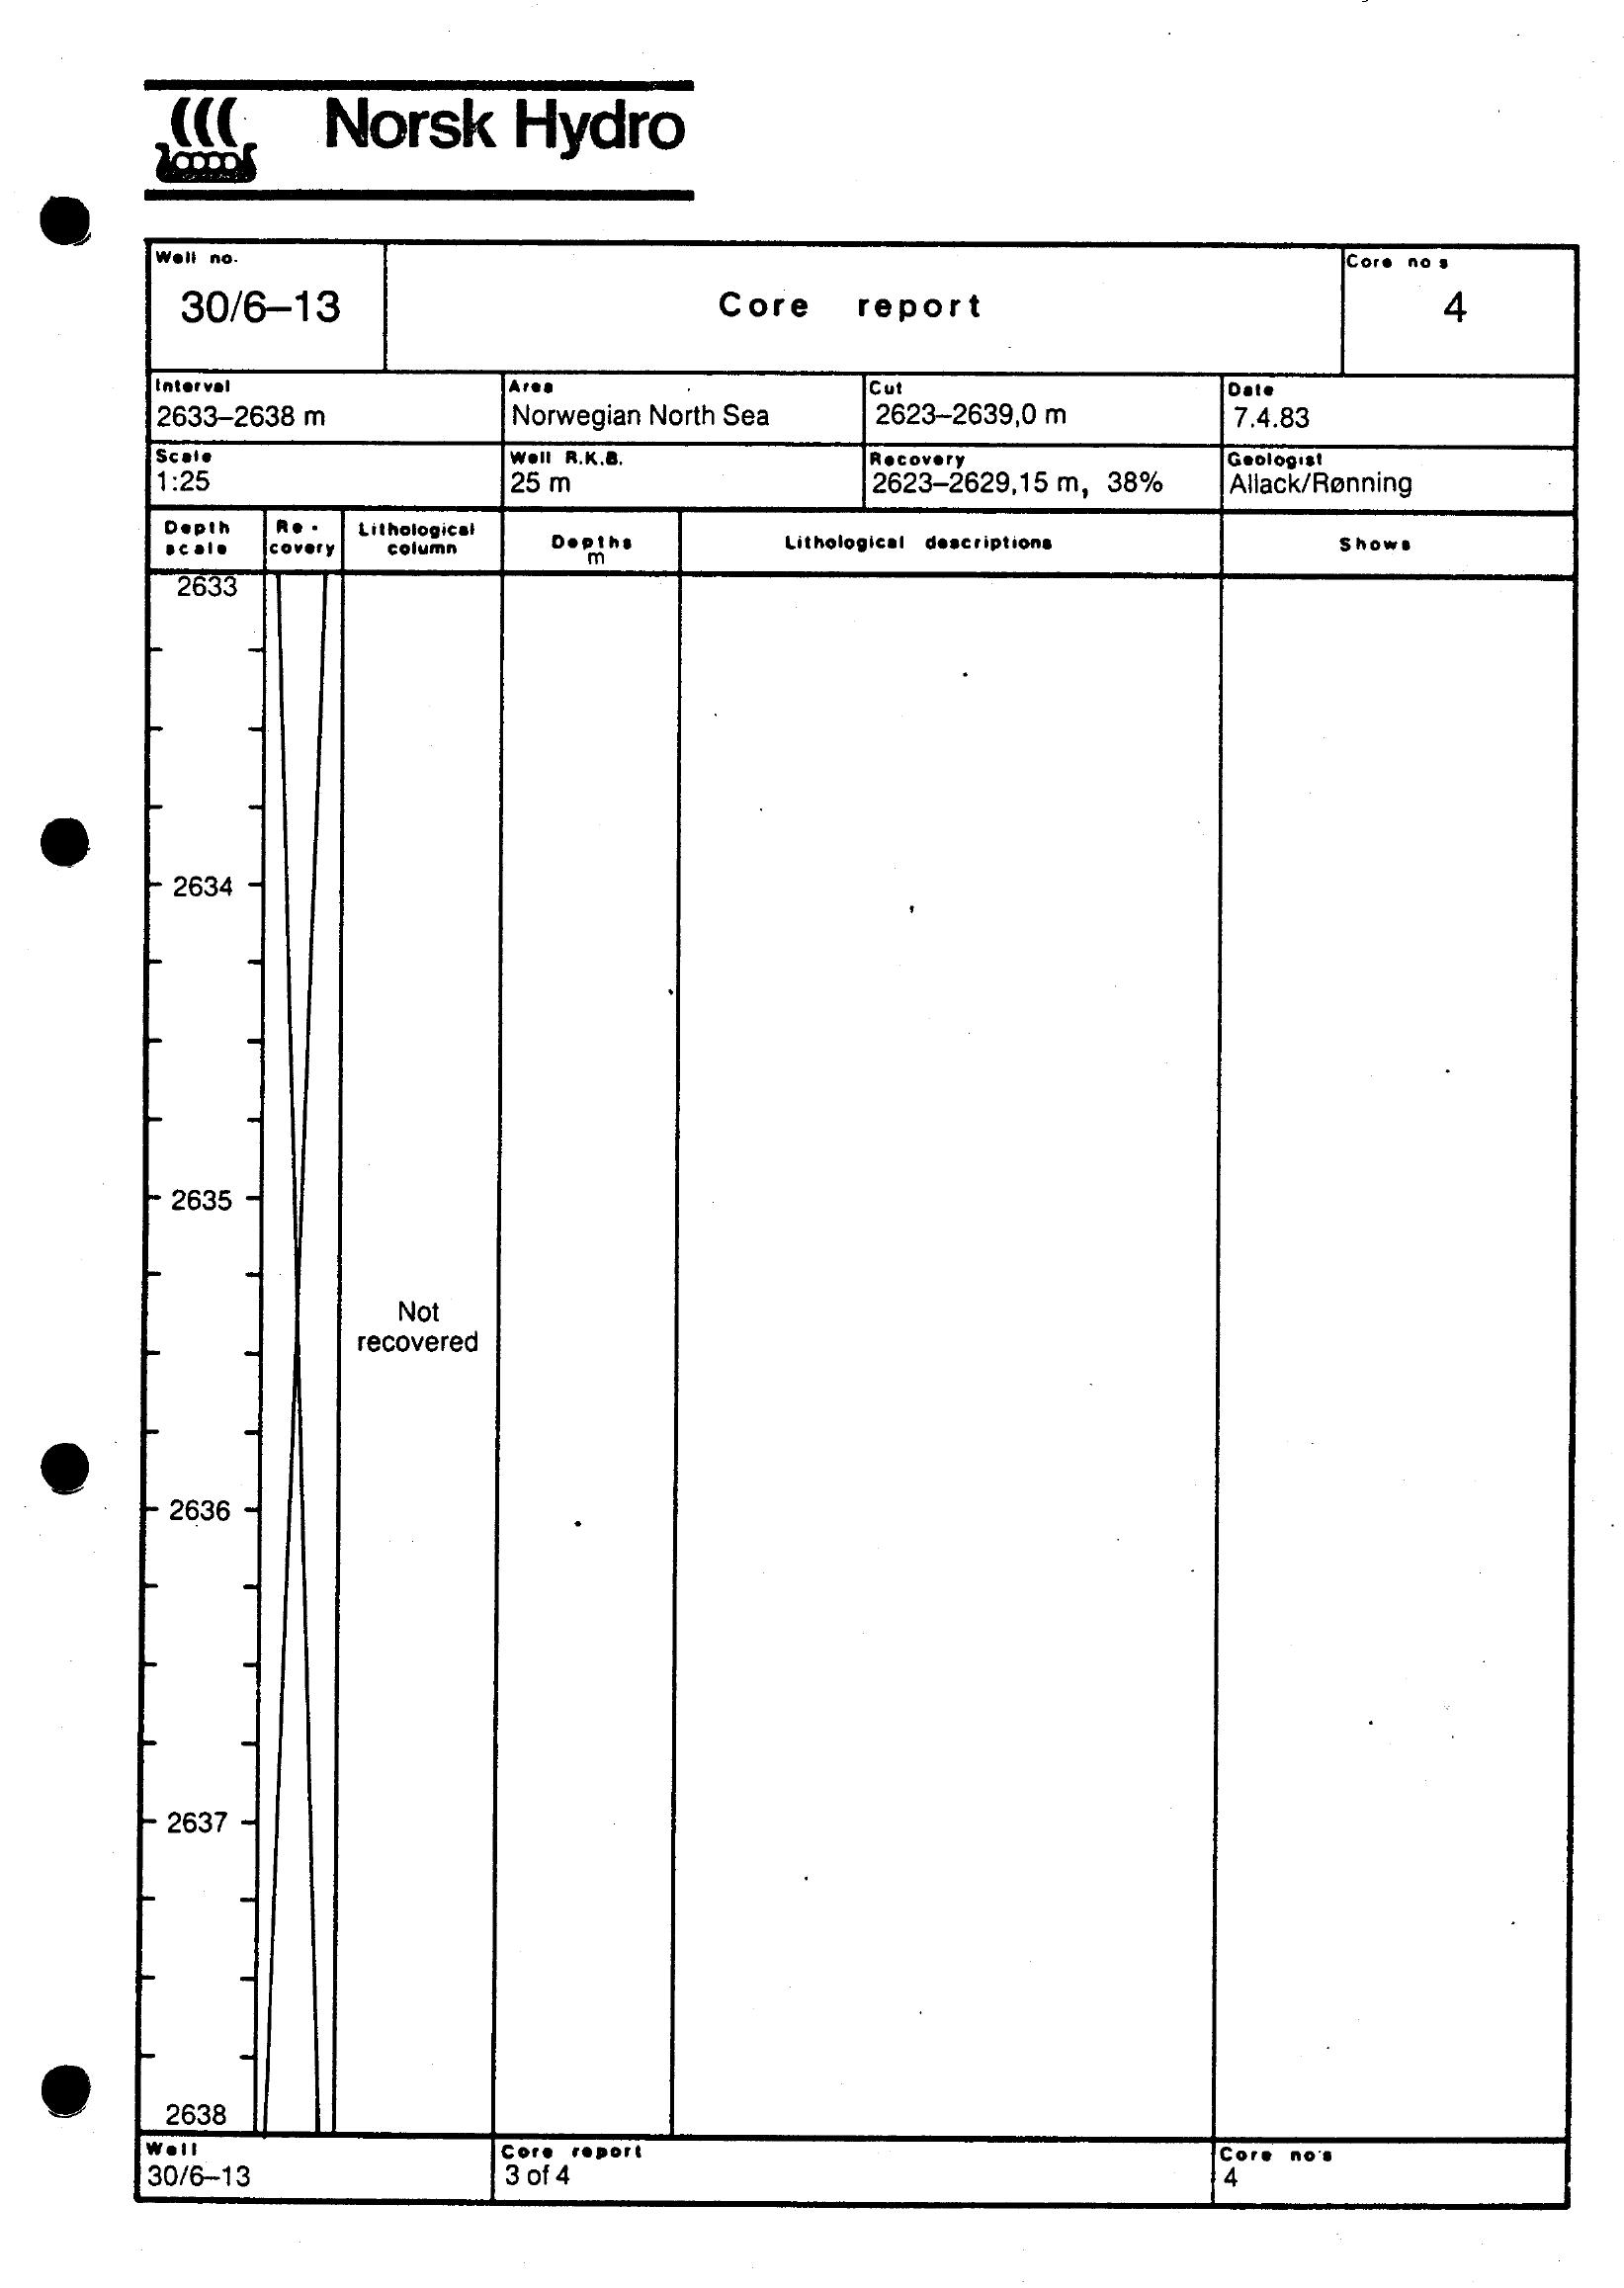graph: (120, 218, 1598, 2251)
undefined: (98, 60, 707, 220)
